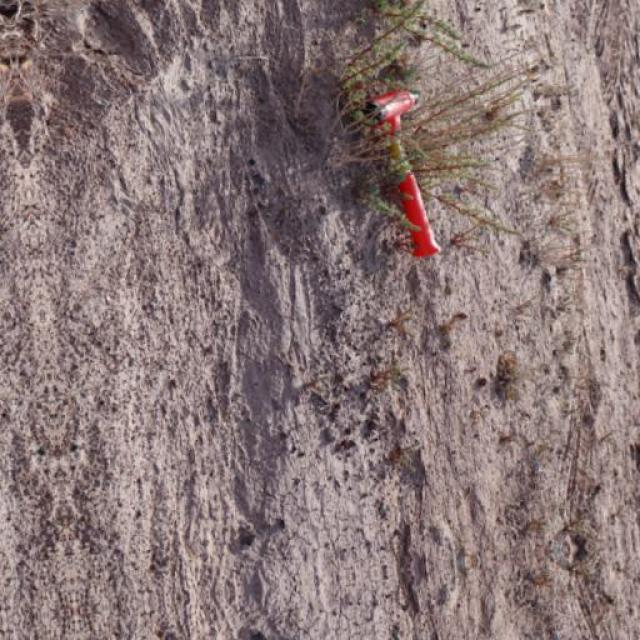mallet: (360, 86, 441, 259)
